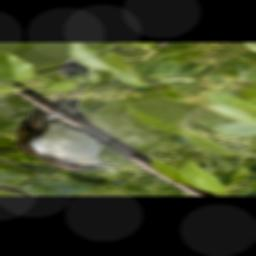Cuckoo: (17, 73, 122, 174)
